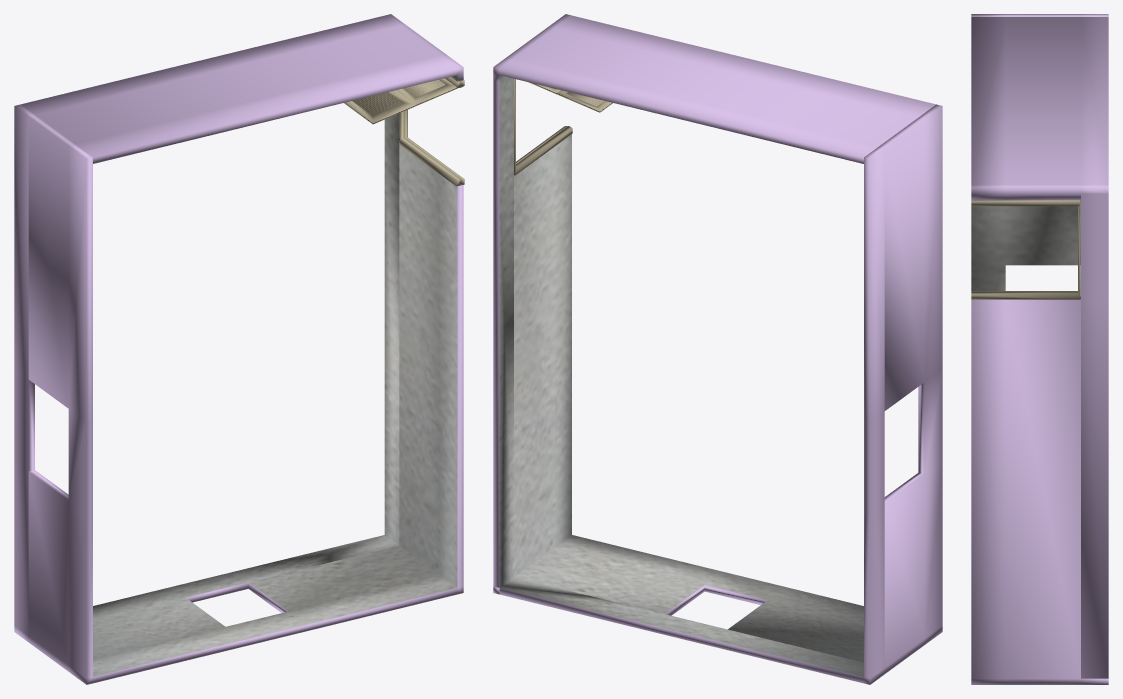
The model's file is wall_bedroom_v2.fbx.
The picture shows the model from 3 angles, left to right: view 1: azimuth 30°, elevation 25°; view 2: azimuth 150°, elevation 25°; view 3: azimuth 270°, elevation 25°; orthographic projection. The views are drawn at different scales.
Visible parts, largest first — view 1: Cube.001, Door-right_WOOD_-_DR2, FRAME01_WOOD_-_DR2; view 2: Cube.001, FRAME01_WOOD_-_DR2; view 3: Cube.001, FRAME01_WOOD_-_DR2.
Boxes of the visible parts, left/top/right/bottom form: Cube.001: left=14, top=14, right=463, bottom=684; Door-right_WOOD_-_DR2: left=344, top=78, right=457, bottom=124; FRAME01_WOOD_-_DR2: left=399, top=77, right=464, bottom=186; Cube.001: left=493, top=14, right=942, bottom=684; FRAME01_WOOD_-_DR2: left=514, top=79, right=572, bottom=175; Cube.001: left=971, top=14, right=1108, bottom=684; FRAME01_WOOD_-_DR2: left=971, top=200, right=1080, bottom=299.
Bounding box in the file's own units: 0.0301 × 0.04 × 0.01.
